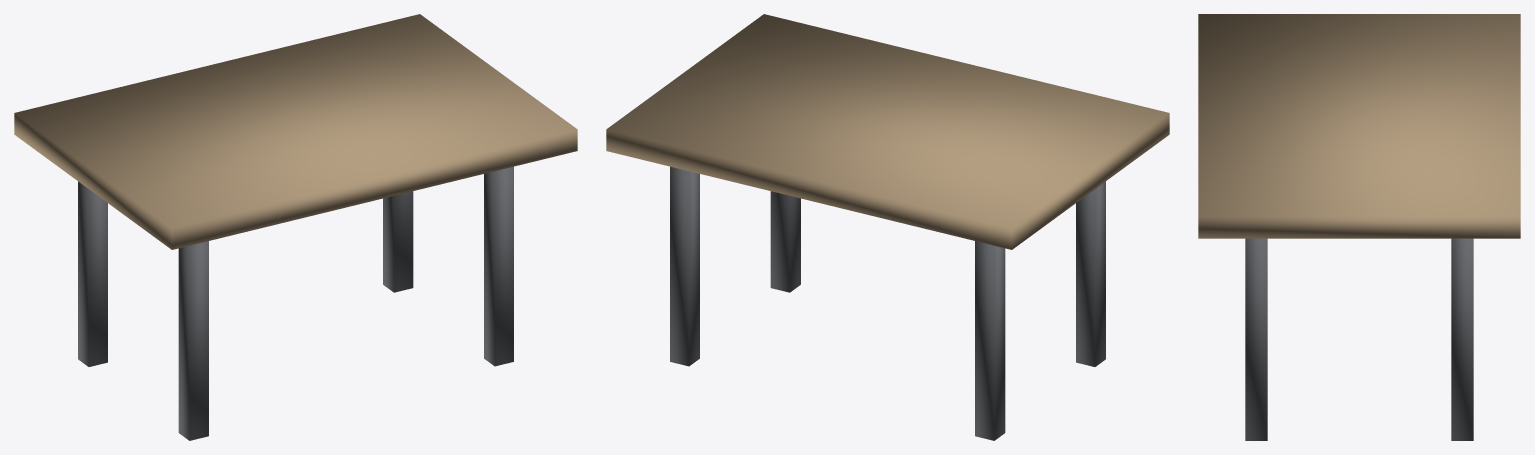
The model's file is diner_four_top__squat.glb.
3 renders of one model, left to right at view 1: azimuth 30°, elevation 25°; view 2: azimuth 150°, elevation 25°; view 3: azimuth 270°, elevation 25°, orthographic. The views are drawn at different scales.
Visible parts, largest first — view 1: world; view 2: world; view 3: world.
Part boxes in pixels (x1,y1,x2,y2): world: (14,14,577,440); world: (606,14,1169,440); world: (1198,14,1520,440).
Bounding box in the file's own units: 1.15 × 0.651 × 0.7776.
